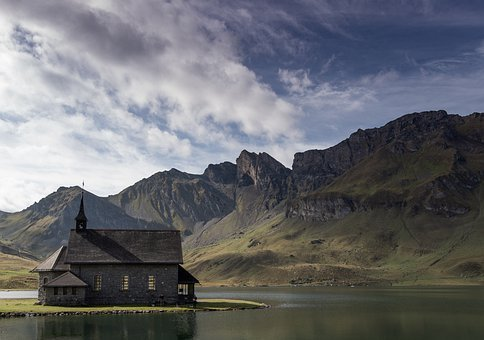house: (30, 213, 204, 309)
mountain: (1, 125, 482, 230)
sky: (1, 1, 484, 143)
